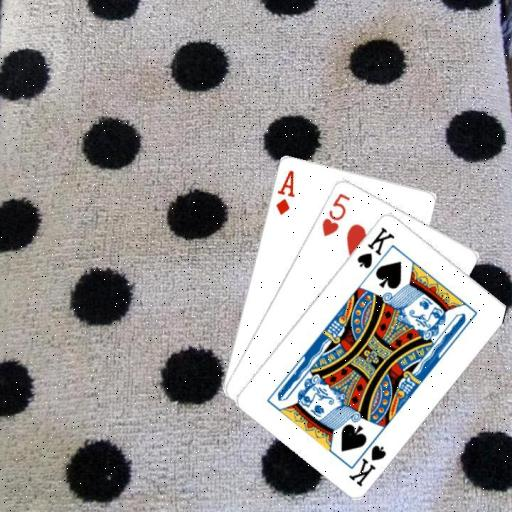5H: (319, 190, 353, 238)
AD: (272, 167, 296, 217)
KS: (345, 432, 387, 488), (354, 224, 396, 271)
